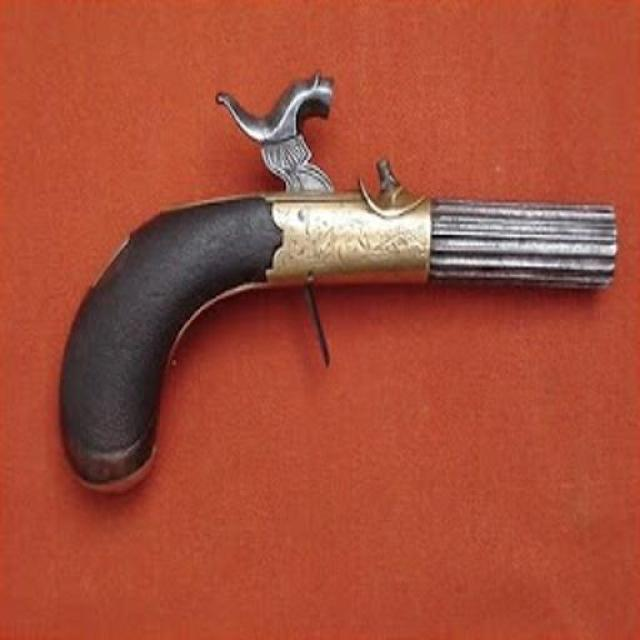pistol: (47, 64, 620, 495)
